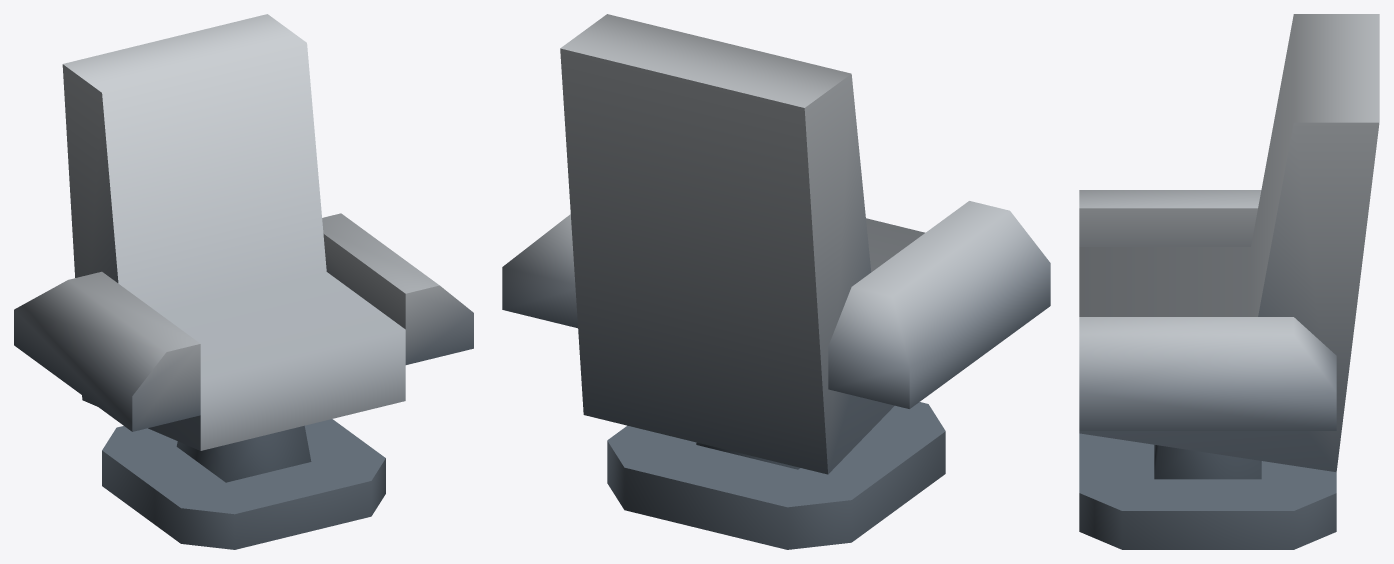
Rendered from chair-armrest.glb.
The picture shows the model from 3 angles, left to right: view 1: azimuth 30°, elevation 25°; view 2: azimuth 150°, elevation 25°; view 3: azimuth 270°, elevation 25°; orthographic projection. The views are drawn at different scales.
Parts seen in each view (by area): view 1: chair-armrest; view 2: chair-armrest; view 3: chair-armrest.
Part boxes in pixels (<box>): chair-armrest: <box>14,14,473,549</box>; chair-armrest: <box>502,14,1050,549</box>; chair-armrest: <box>1079,14,1379,549</box>.
Bounding box in the file's own units: 0.5 × 0.55 × 0.35.
